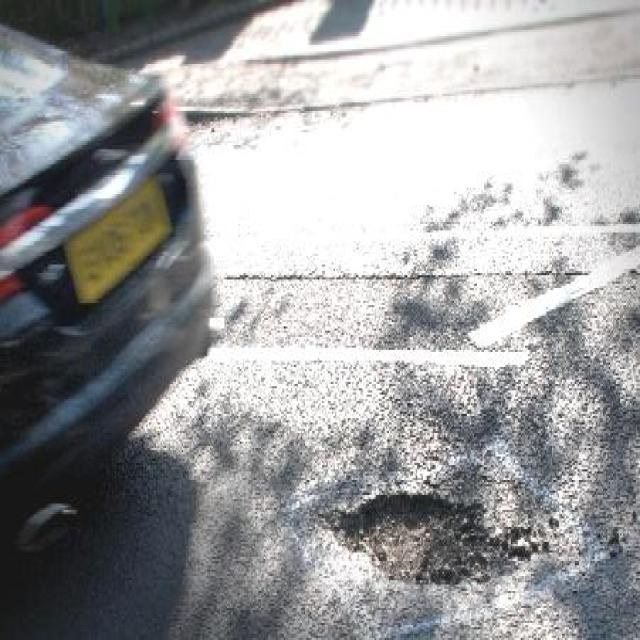pothole: (318, 488, 525, 589)
